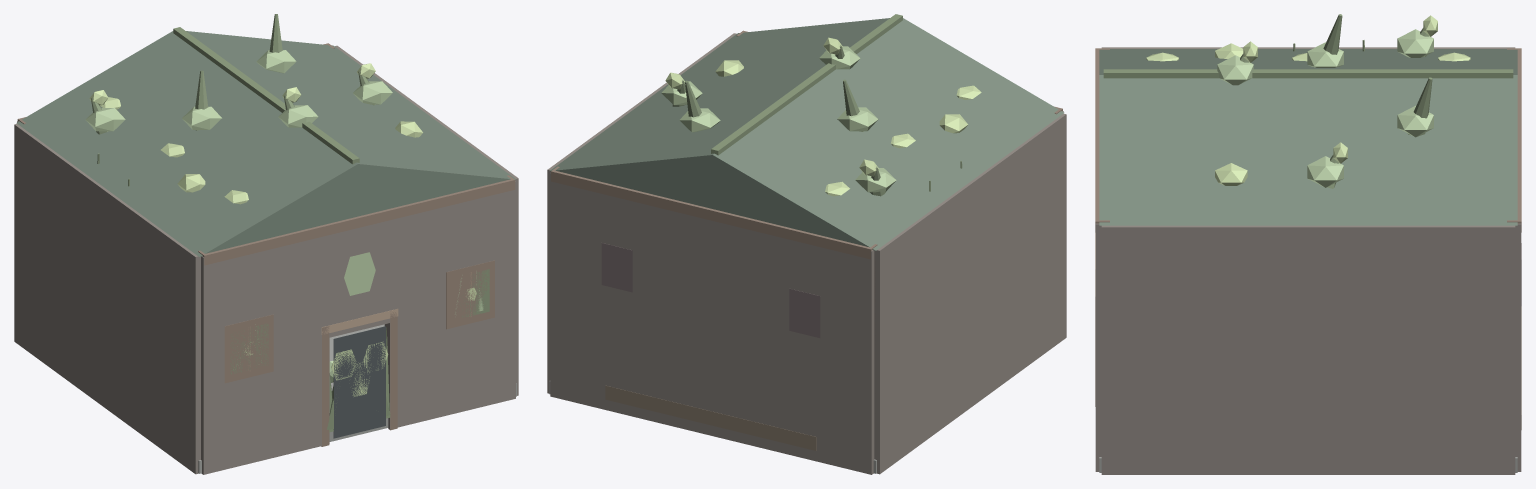
The model's file is river_granary_infested.glb.
3 renders of one model, left to right at view 1: azimuth 30°, elevation 25°; view 2: azimuth 150°, elevation 25°; view 3: azimuth 270°, elevation 25°, orthographic. The views are drawn at different scales.
Visible parts, largest first — view 1: river_granary_mat_01, river_granary_mat_10, river_granary_mat_02, river_granary_mat_04, river_granary_mat_06, river_granary_mat_08, river_granary_mat_05, river_granary_mat_03, river_granary_mat_00; view 2: river_granary_mat_01, river_granary_mat_10, river_granary_mat_02, river_granary_mat_11, river_granary_mat_06, river_granary_mat_08, river_granary_mat_09, river_granary_mat_05; view 3: river_granary_mat_01, river_granary_mat_10, river_granary_mat_06, river_granary_mat_08, river_granary_mat_05, river_granary_mat_02.
Part boxes in pixels (box(x1,y1,x2,y2)): river_granary_mat_01: box(14, 45, 518, 474); river_granary_mat_10: box(16, 31, 516, 256); river_granary_mat_02: box(17, 43, 515, 446); river_granary_mat_04: box(333, 326, 385, 438); river_granary_mat_06: box(91, 14, 489, 432); river_granary_mat_08: box(85, 50, 483, 382); river_granary_mat_05: box(89, 63, 476, 396); river_granary_mat_03: box(321, 309, 398, 334); river_granary_mat_00: box(198, 324, 516, 473); river_granary_mat_01: box(547, 33, 1066, 474); river_granary_mat_10: box(549, 18, 1064, 250); river_granary_mat_02: box(551, 30, 1062, 352); river_granary_mat_11: box(605, 385, 816, 450); river_granary_mat_06: box(672, 14, 962, 196); river_granary_mat_08: box(661, 46, 896, 192); river_granary_mat_09: box(601, 243, 820, 337); river_granary_mat_05: box(665, 37, 981, 196); river_granary_mat_01: box(1095, 47, 1521, 474); river_granary_mat_10: box(1099, 49, 1517, 225); river_granary_mat_06: box(1103, 14, 1513, 188); river_granary_mat_08: box(1217, 29, 1433, 187); river_granary_mat_05: box(1146, 15, 1470, 185); river_granary_mat_02: box(1095, 48, 1521, 406).
Size of the model in its own units: 3.97 by 3.53 by 3.98.
